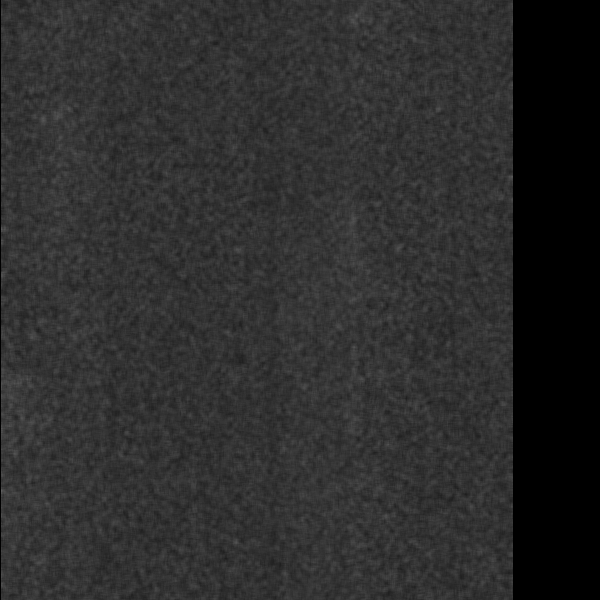spark: (98, 218, 143, 253)
